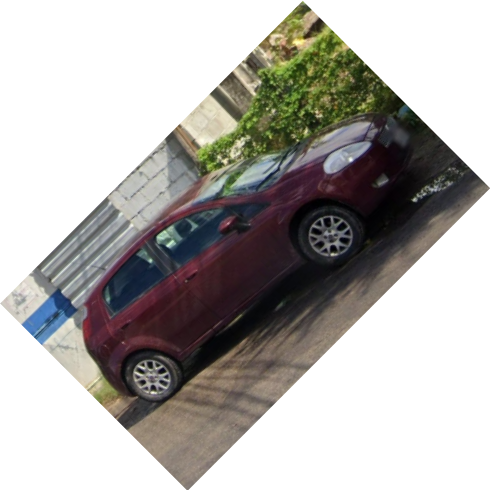car: (79, 115, 410, 397)
